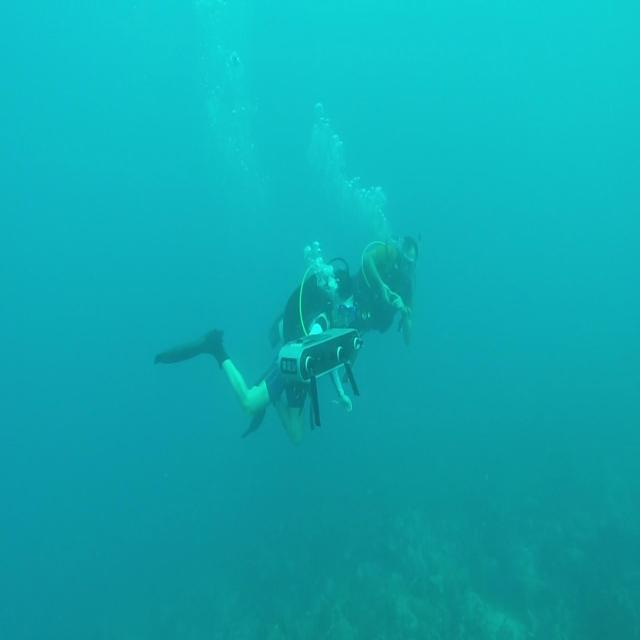human: (153, 232, 419, 445)
